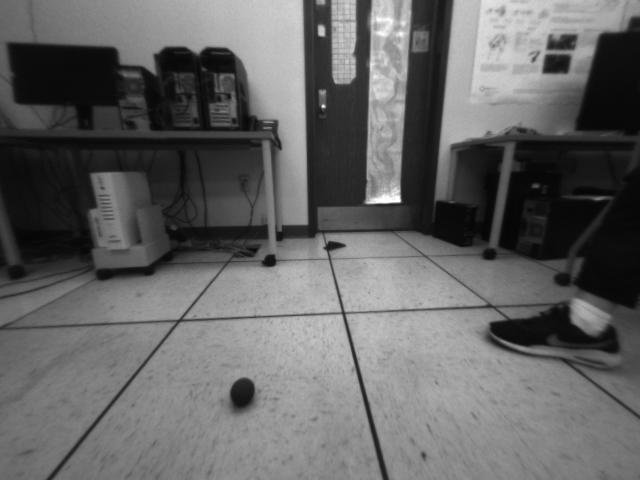dogtoy: (225, 371, 266, 410)
